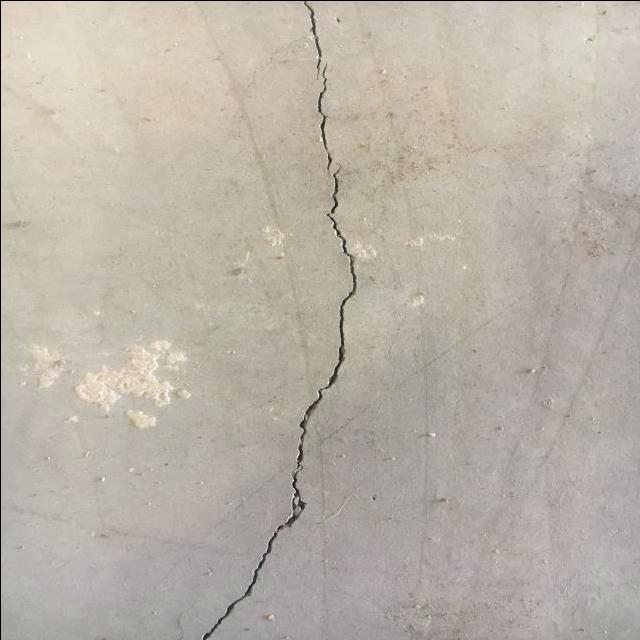SurfaceCrack: (154, 1, 390, 640)
